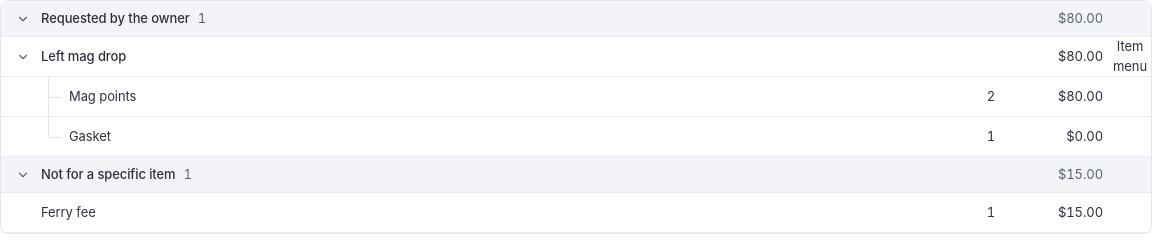
Test: ListTable › folds an item's lines and a whole group
Click the button named "Hide its lines". click: point(23, 56)
box: x1=13 y1=46 x2=33 y2=66
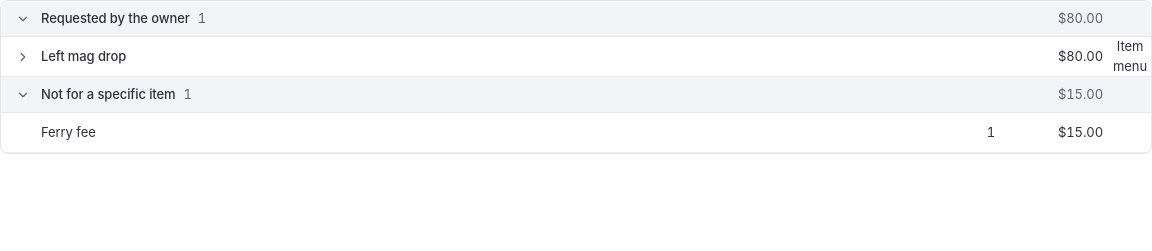
Check: the text "Mag points" is gone
Check: the row "Left mag drop" is collapsed, box x1=1 y1=37 x2=1151 y2=77
Click the row "Not for a specific item 1 $15.00". click: point(576, 95)
box: x1=1 y1=77 x2=1151 y2=113
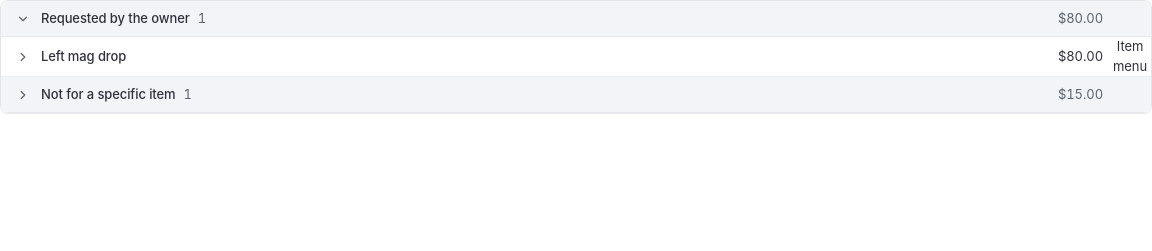
Check: the text "Ferry fee" is gone
